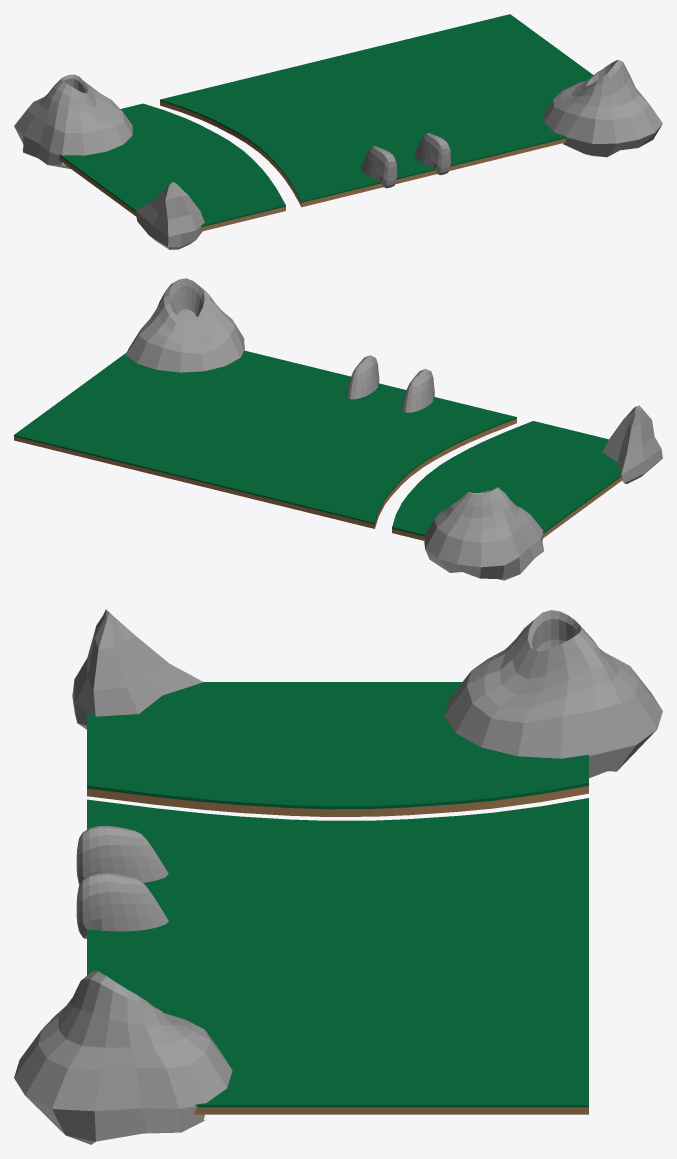
Rendered from GameMapNuevo.fbx.
3 views of the same model, one above another, from view 1: azimuth 30°, elevation 25°; view 2: azimuth 150°, elevation 25°; view 3: azimuth 270°, elevation 25° (orthographic). The views are drawn at different scales.
Visible parts, largest first — view 1: Plane.005; view 2: Plane.005; view 3: Plane.005.
Part boxes in pixels (left/top/right/bottom): Plane.005: left=14, top=14, right=662, bottom=249; Plane.005: left=14, top=278, right=662, bottom=580; Plane.005: left=14, top=609, right=662, bottom=1144.
Bounding box in the file's own units: 3691 × 610 × 2331.
